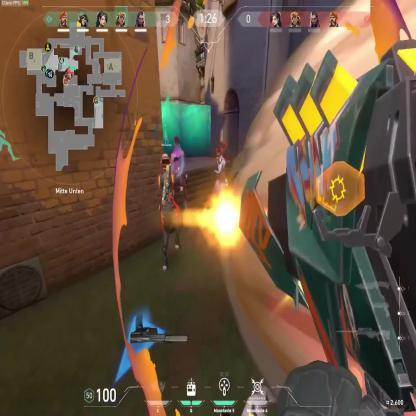enemy: (155, 152, 182, 274), (169, 136, 188, 226), (210, 142, 231, 218)
enemy_head: (161, 152, 170, 171), (173, 136, 180, 148), (216, 148, 223, 160)
